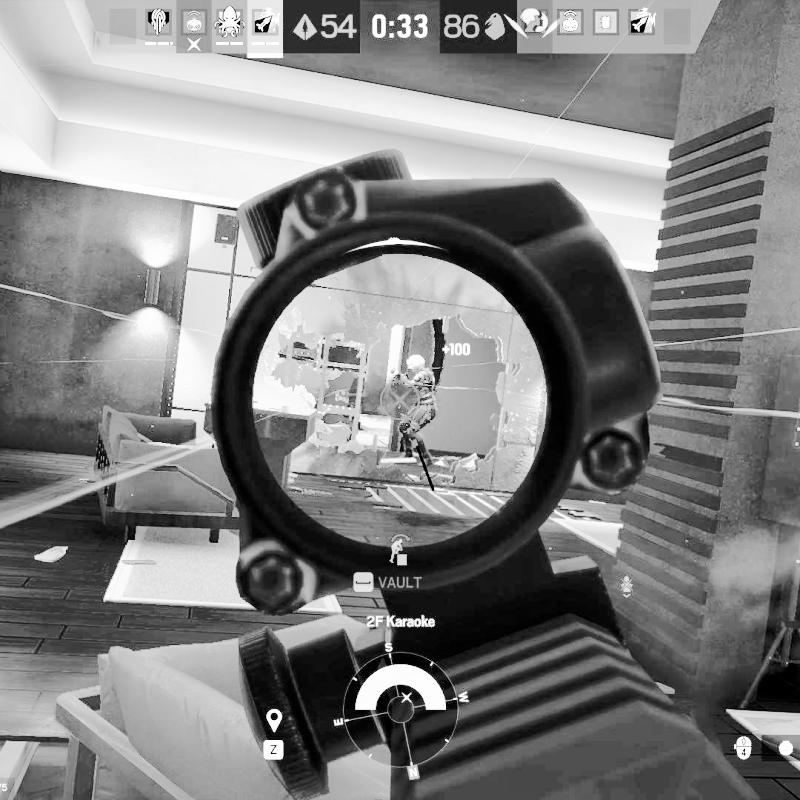Character: (386, 354, 441, 469)
Head: (405, 354, 427, 374)
